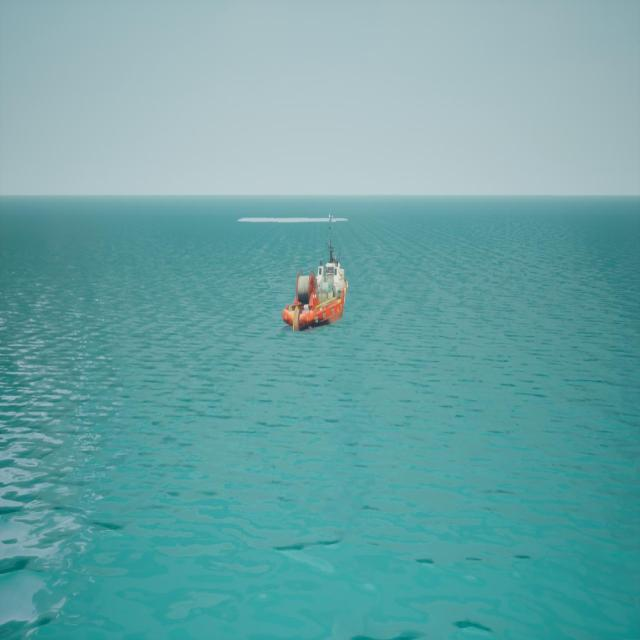tug boat: (286, 216, 350, 334)
